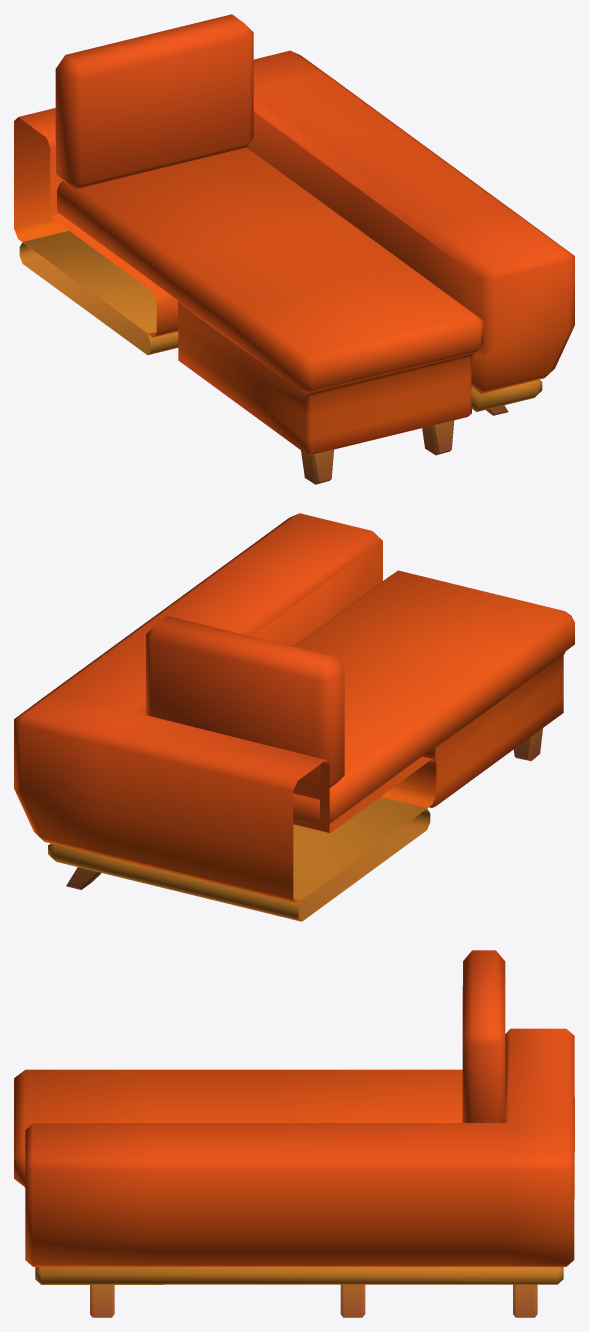
Rendered from Sofa_L_Long.fbx.
The picture shows the model from 3 angles, top to bottom: view 1: azimuth 30°, elevation 25°; view 2: azimuth 150°, elevation 25°; view 3: azimuth 270°, elevation 25°; orthographic projection. The views are drawn at different scales.
Visible parts, largest first — view 1: LargestSofa._L_LongEnd; view 2: LargestSofa._L_LongEnd; view 3: LargestSofa._L_LongEnd.
Part boxes in pixels (bbox=[...]): LargestSofa._L_LongEnd: bbox=[14, 14, 574, 484]; LargestSofa._L_LongEnd: bbox=[14, 513, 574, 921]; LargestSofa._L_LongEnd: bbox=[14, 950, 574, 1317].
Bounding box in the file's own units: 4.5 × 4 × 7.96.
